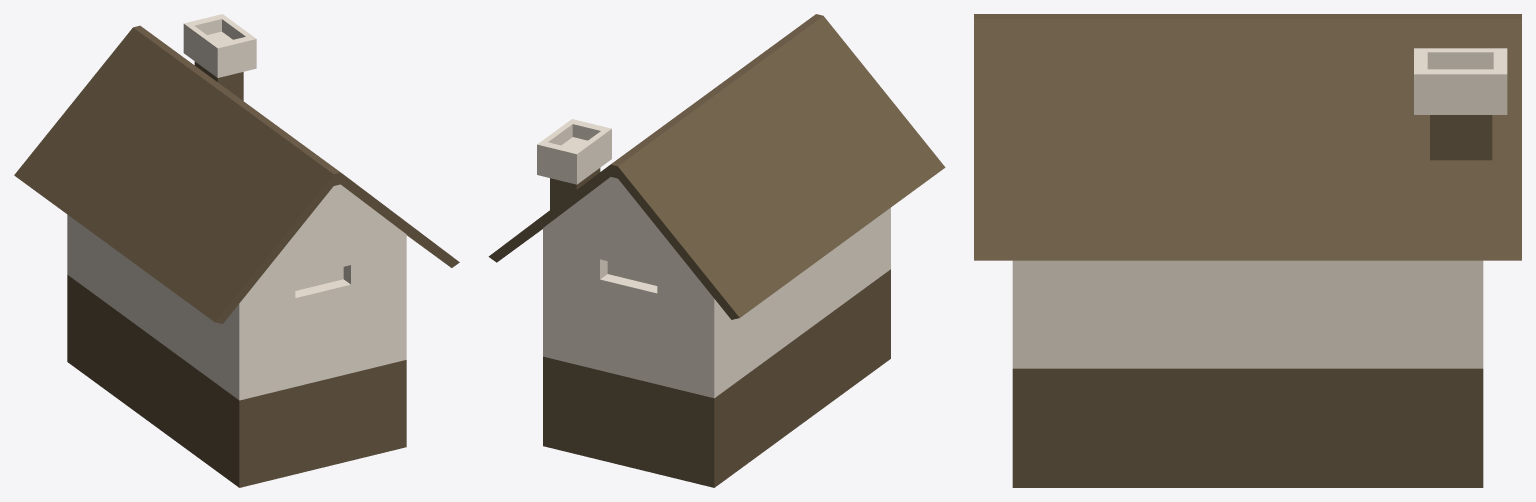
The model's file is House.fbx.
3 renders of one model, left to right at view 1: azimuth 30°, elevation 25°; view 2: azimuth 150°, elevation 25°; view 3: azimuth 270°, elevation 25°, orthographic. The views are drawn at different scales.
Visible parts, largest first — view 1: House_Geo; view 2: House_Geo; view 3: House_Geo.
Boxes of the visible parts, x1=… form: House_Geo: x1=14, y1=14, x2=459, y2=487; House_Geo: x1=488, y1=14, x2=945, y2=487; House_Geo: x1=974, y1=14, x2=1521, y2=487.
Size of the model in its own units: 108 by 128 by 153.
